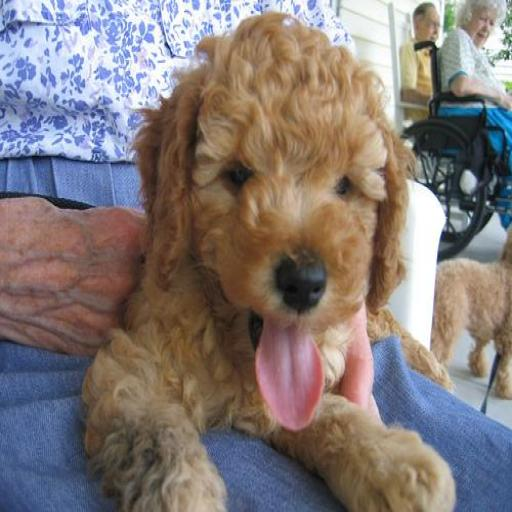dog_face: (142, 32, 417, 364)
